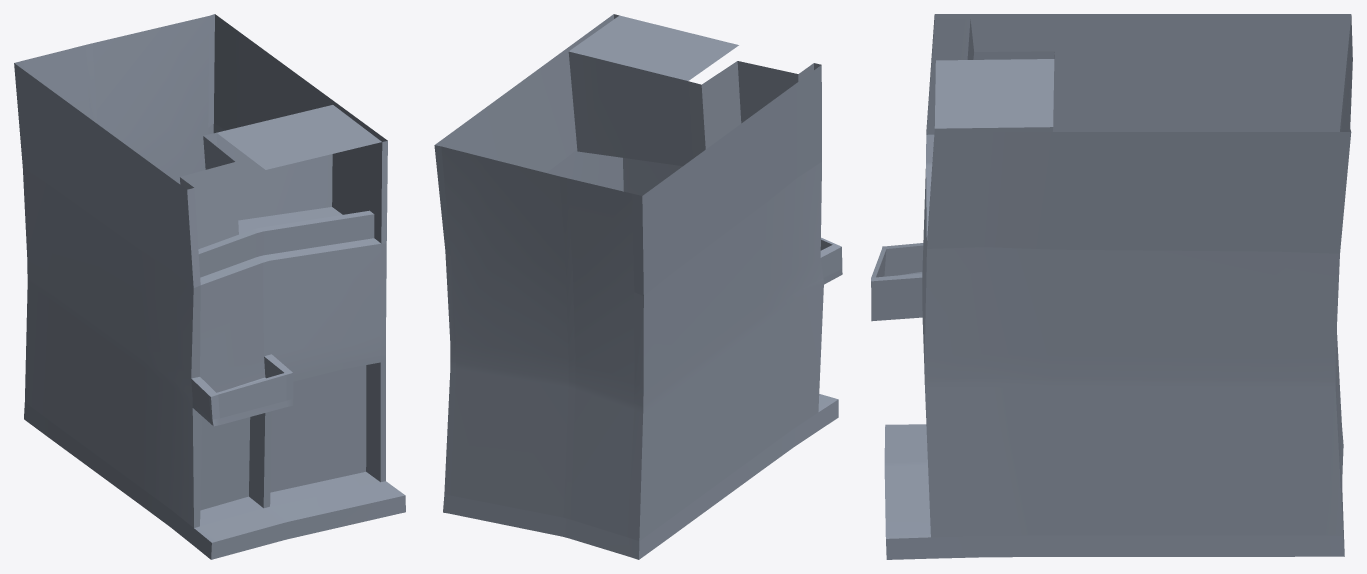
File: building 1-1.fbx
The picture shows the model from 3 angles, left to right: view 1: azimuth 30°, elevation 25°; view 2: azimuth 150°, elevation 25°; view 3: azimuth 270°, elevation 25°; orthographic projection. The views are drawn at different scales.
Visible parts, largest first — view 1: immeuble_1:immeuble_4; view 2: immeuble_1:immeuble_4; view 3: immeuble_1:immeuble_4.
Part boxes in pixels (x1=…): immeuble_1:immeuble_4: x1=14, y1=14, x2=405, y2=559; immeuble_1:immeuble_4: x1=434, y1=14, x2=842, y2=559; immeuble_1:immeuble_4: x1=871, y1=14, x2=1352, y2=559.
Bounding box in the file's own units: 4285 × 7291 × 7391.
